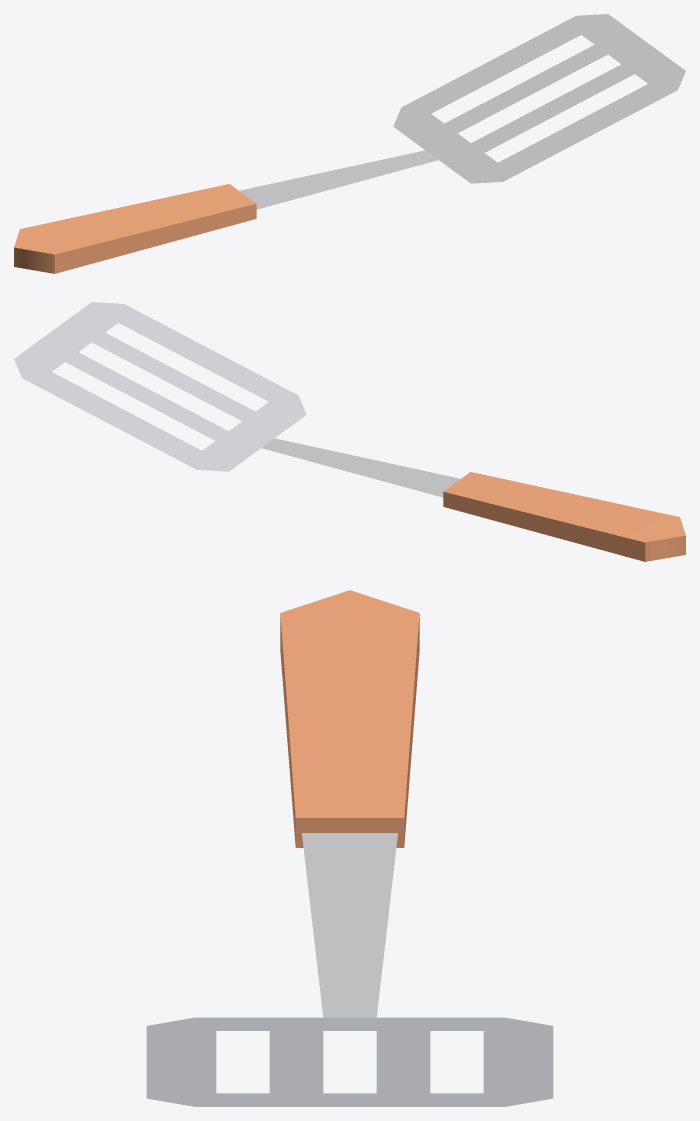
The model's file is cookingSpatula.GLB.
3 views of the same model, one above another, from view 1: azimuth 30°, elevation 25°; view 2: azimuth 150°, elevation 25°; view 3: azimuth 270°, elevation 25° (orthographic). The views are drawn at different scales.
Visible parts, largest first — view 1: cookingSpatula; view 2: cookingSpatula; view 3: cookingSpatula.
Part boxes in pixels (x1,y1,x2,y2): cookingSpatula: [14, 14, 685, 273]; cookingSpatula: [14, 302, 685, 561]; cookingSpatula: [146, 590, 553, 1106].
Size of the model in its own units: 0.6827 by 0.0721 by 0.19.
